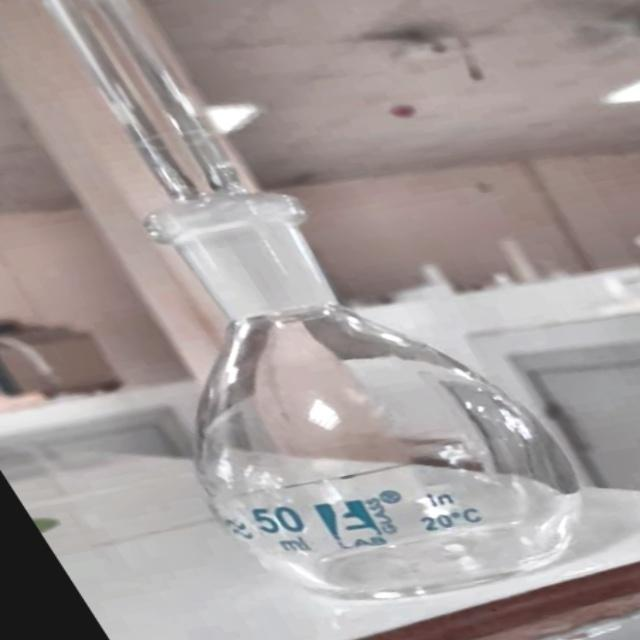Density Bottles for Solids: (0, 0, 625, 631)
